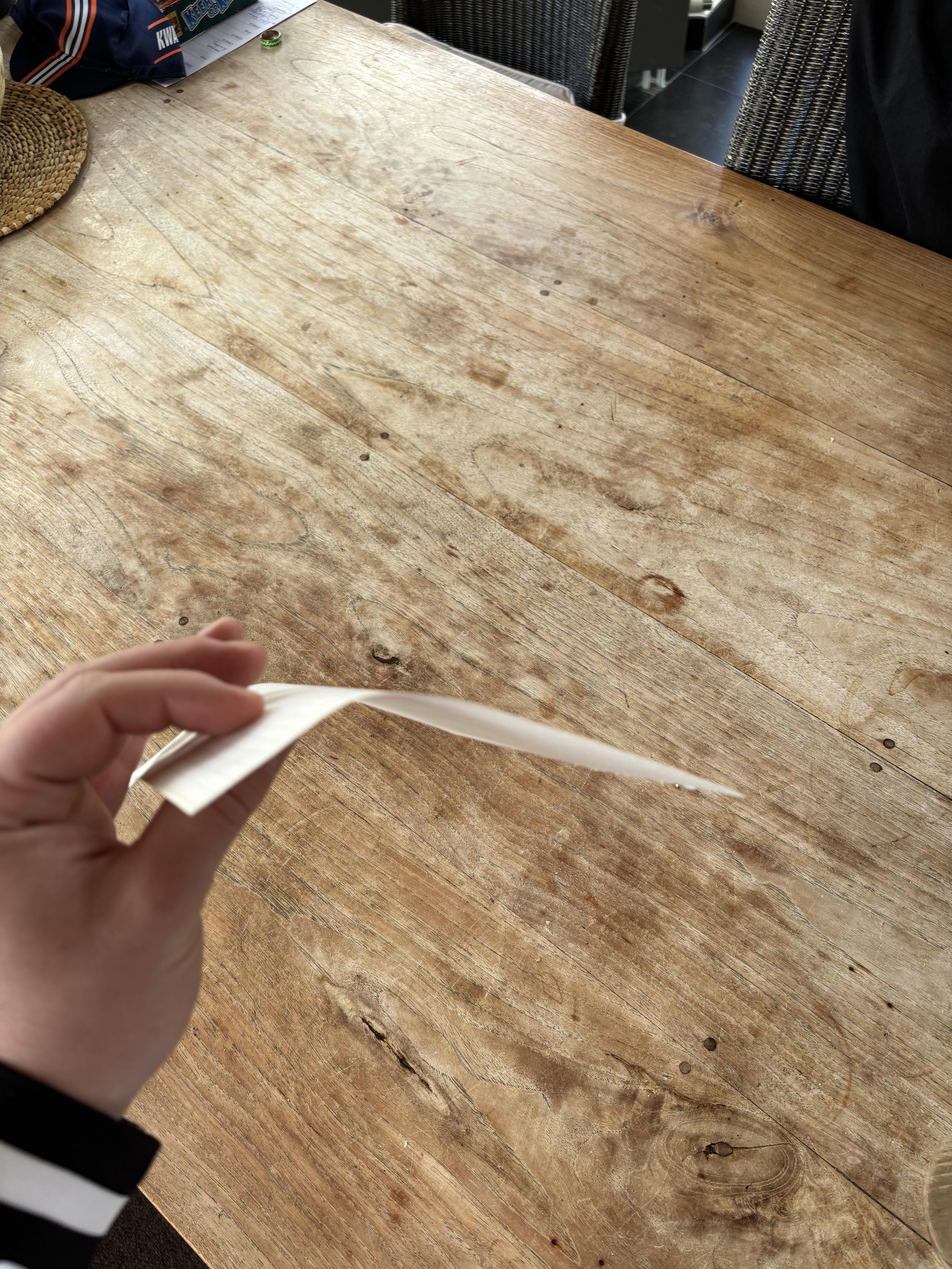Paper: (116, 669, 753, 825)
